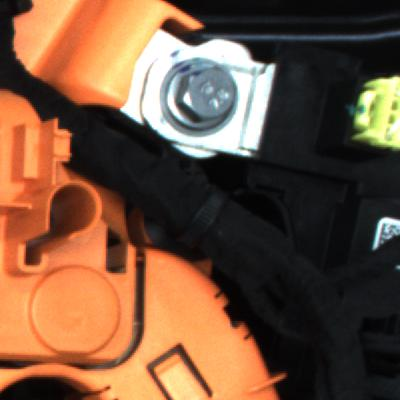nut_b: (162, 58, 253, 144)
